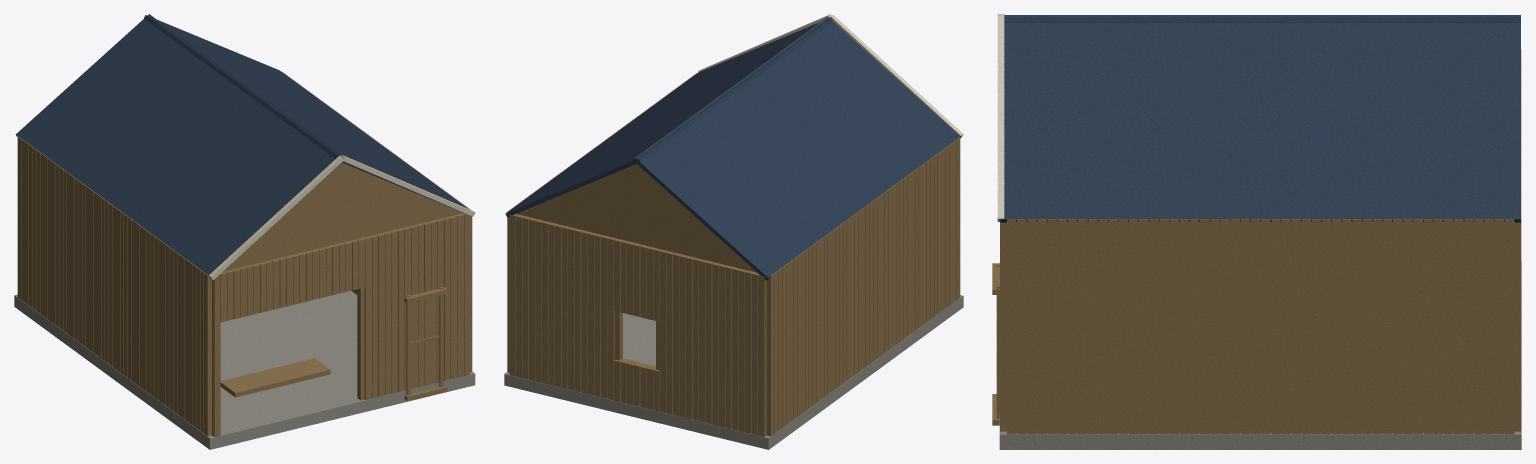
Rendered from BARN32_lod2.glb.
3 views of the same model, side by side, from view 1: azimuth 30°, elevation 25°; view 2: azimuth 150°, elevation 25°; view 3: azimuth 270°, elevation 25° (orthographic). The views are drawn at different scales.
Visible parts, largest first — view 1: BARN32_LOD2; view 2: BARN32_LOD2; view 3: BARN32_LOD2.
Part boxes in pixels (x1,y1,x2,y2): BARN32_LOD2: [14, 14, 475, 449]; BARN32_LOD2: [504, 14, 963, 449]; BARN32_LOD2: [992, 14, 1521, 449].
Bounding box in the file's own units: 7.25 × 6.82 × 9.38.
8 materials, 6 textured.
